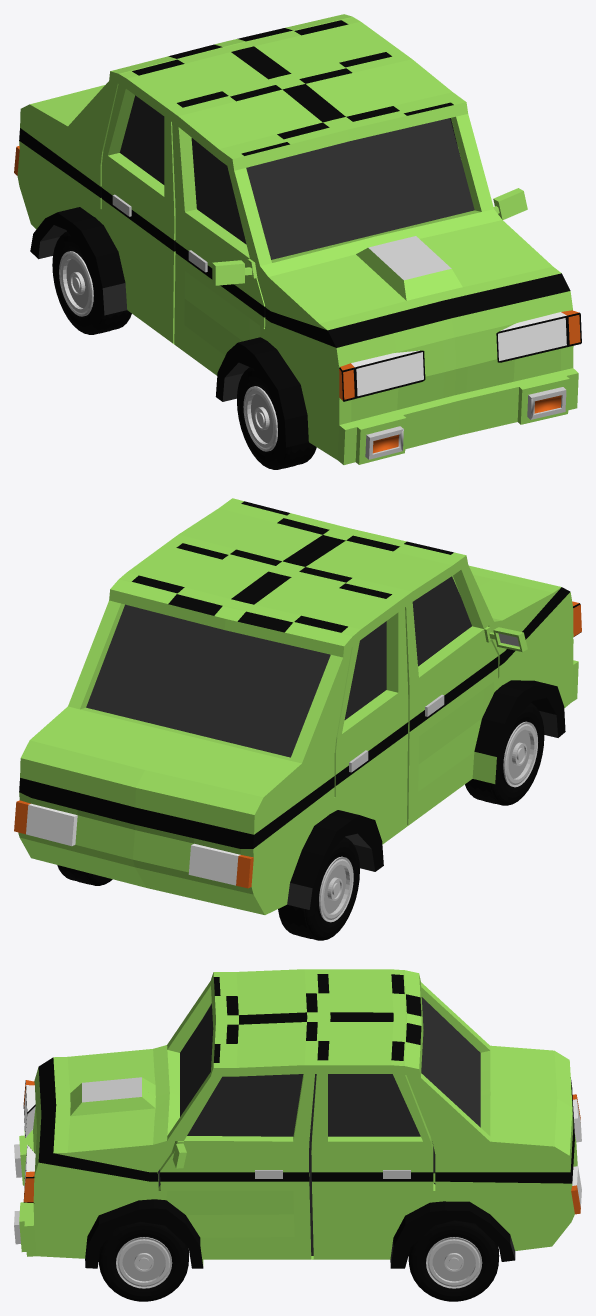
The picture shows the model from 3 angles, top to bottom: view 1: azimuth 30°, elevation 25°; view 2: azimuth 150°, elevation 25°; view 3: azimuth 270°, elevation 25°; orthographic projection. The views are drawn at different scales.
Parts seen in each view (by area): view 1: BODY48A, WHEEL.001, WHEEL.004; view 2: BODY48A, WHEEL.004, WHEEL.001; view 3: BODY48A, WHEEL.002, WHEEL.003.
Part boxes in pixels (left/top/right/bottom): BODY48A: left=14, top=14, right=581, bottom=464; WHEEL.001: left=237, top=367, right=316, bottom=469; WHEEL.004: left=52, top=231, right=131, bottom=334; BODY48A: left=14, top=498, right=581, bottom=914; WHEEL.004: left=278, top=837, right=359, bottom=940; WHEEL.001: left=465, top=703, right=544, bottom=805; BODY48A: left=14, top=969, right=581, bottom=1268; WHEEL.002: left=408, top=1220, right=499, bottom=1301; WHEEL.003: left=98, top=1221, right=189, bottom=1301.
Size of the model in its own units: 131 by 111 by 245.
